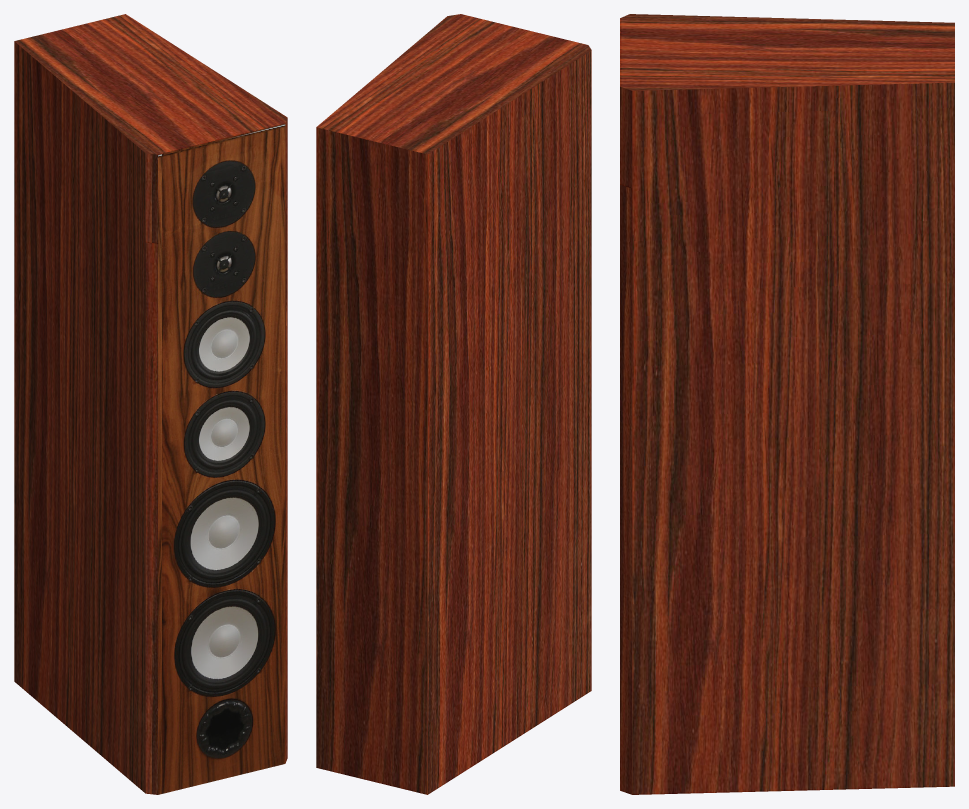
Rendered from speaker.fbx.
3 views of the same model, side by side, from view 1: azimuth 30°, elevation 25°; view 2: azimuth 150°, elevation 25°; view 3: azimuth 270°, elevation 25° (orthographic). The views are drawn at different scales.
Parts seen in each view (by area): view 1: Mesh1 Component1 skpB14E1 Model; view 2: Mesh1 Component1 skpB14E1 Model; view 3: Mesh1 Component1 skpB14E1 Model.
Part boxes in pixels (bbox=[...]): Mesh1 Component1 skpB14E1 Model: bbox=[14, 14, 287, 794]; Mesh1 Component1 skpB14E1 Model: bbox=[316, 14, 591, 794]; Mesh1 Component1 skpB14E1 Model: bbox=[620, 14, 954, 794].
Bounding box in the file's own units: 0.235 × 1 × 0.4324.
Materials: 2 (2 with a texture image).
